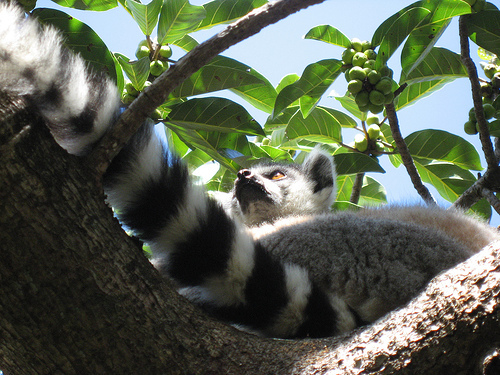cat: (2, 2, 499, 336)
